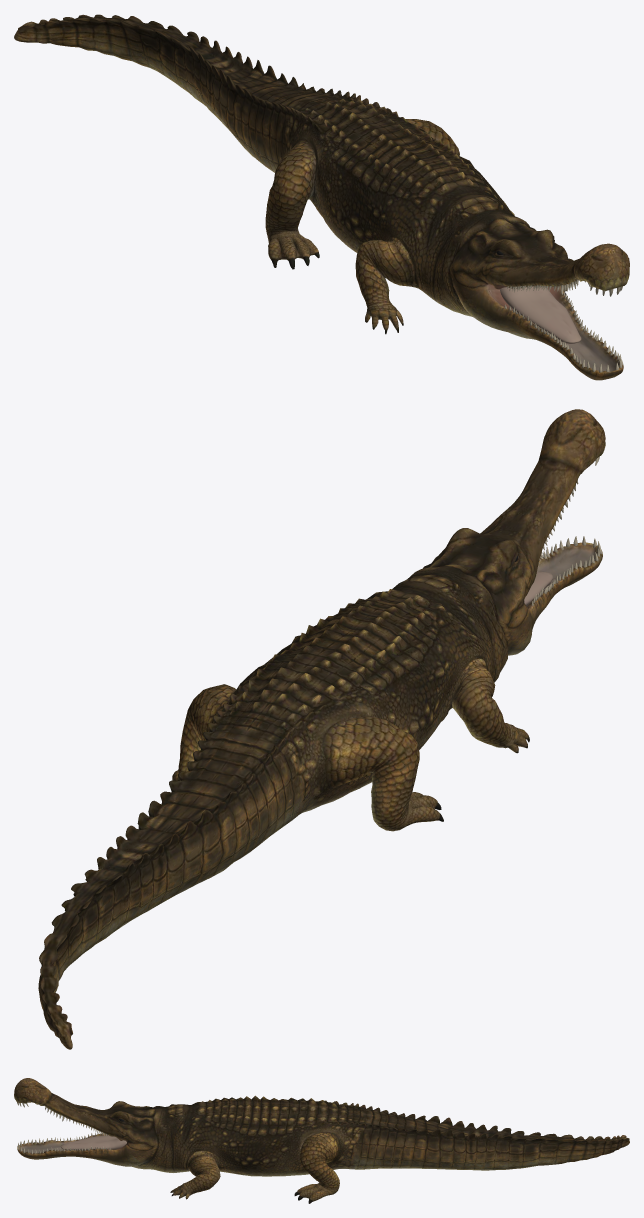
Rendered from sarcosuchus.glb.
3 views of the same model, one above another, from view 1: azimuth 30°, elevation 25°; view 2: azimuth 150°, elevation 25°; view 3: azimuth 270°, elevation 25° (orthographic). The views are drawn at different scales.
Visible parts, largest first — view 1: sarcosuchus.1_1_4; view 2: sarcosuchus.1_1_4; view 3: sarcosuchus.1_1_4.
Part boxes in pixels (left/top/right/bottom): sarcosuchus.1_1_4: left=14, top=14, right=629, bottom=380; sarcosuchus.1_1_4: left=38, top=409, right=605, bottom=1049; sarcosuchus.1_1_4: left=14, top=1078, right=629, bottom=1203.
Bounding box in the file's own units: 0.1468 × 0.1085 × 0.6298.
1 material, 1 textured.
